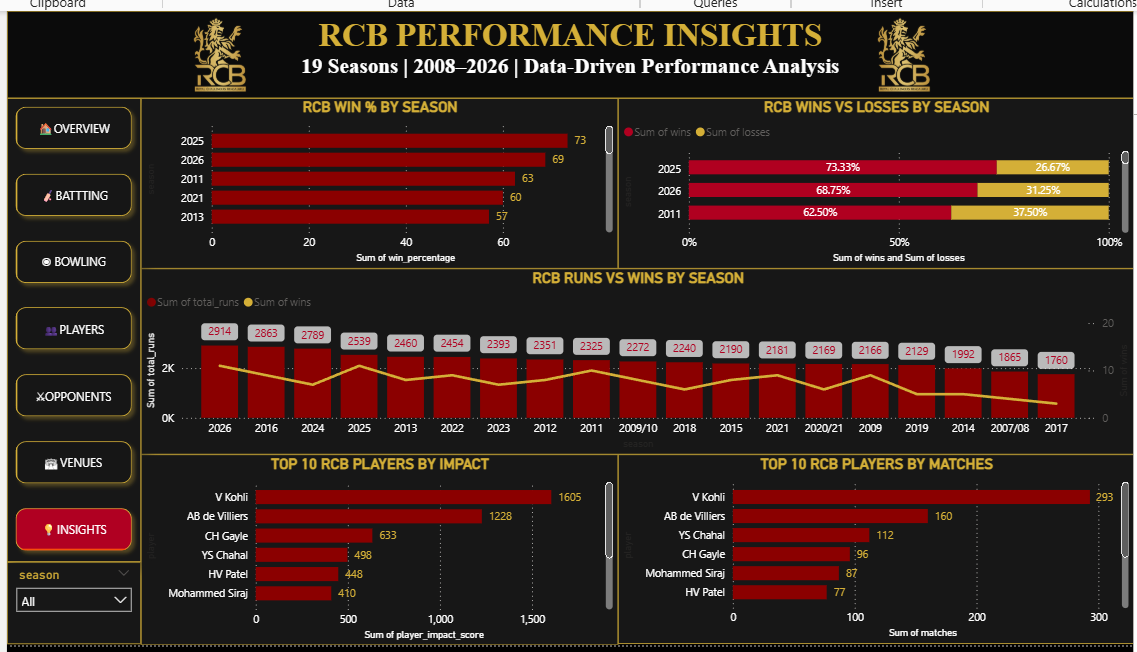

Layout of this report page (visuals, bound fields, positions):
{"tool":"powerbi","page":{"name":"💡INSIGHTS","canvas":[1280,720],"ordinal":6},"visuals":[{"type":"textbox","box":[0,0,1280.5,99],"z":0},{"type":"slicer","fields":{"Values":["rcb_season_summary.season"]},"box":[0,626.2,152.1,93],"z":1000},{"type":"barChart","title":"RCB WIN % BY SEASON","fields":{"Category":["rcb_season_summary.season"],"Y":["Sum(rcb_season_summary.win_percentage)"]},"box":[152.1,99,542,193.5],"z":2000},{"type":"lineStackedColumnComboChart","title":"RCB RUNS VS WINS BY SEASON","fields":{"Category":["rcb_season_summary.season"],"Y":["Sum(rcb_season_summary.total_runs)"],"Y2":["Sum(rcb_season_summary.wins)"]},"box":[152.1,292.4,1128.4,211.2],"z":3000},{"type":"hundredPercentStackedBarChart","title":"RCB WINS VS LOSSES BY SEASON","fields":{"Category":["rcb_season_summary.season"],"Y":["Sum(rcb_season_summary.wins)","Sum(rcb_season_summary.losses)"]},"box":[694.2,99,586.4,193.5],"z":4000},{"type":"clusteredBarChart","title":"TOP 10 RCB PLAYERS BY IMPACT","fields":{"Category":["rcb_player_season_impact.player"],"Y":["Sum(rcb_player_season_impact.player_impact_score)"]},"box":[152.1,503.6,542,217.1],"z":5000},{"type":"clusteredBarChart","title":"TOP 10 RCB PLAYERS BY MATCHES","fields":{"Category":["rcb_player_season_impact.player"],"Y":["Sum(rcb_player_season_impact.matches)"]},"box":[694.2,503.6,586.4,215.6],"z":6000},{"type":"pageNavigator","box":[0,99,152.1,527.3],"z":7000},{"type":"image","box":[152.1,0,178.7,99],"z":8000},{"type":"image","box":[924.6,0,189.1,99],"z":9000}]}

Visuals, with their boxes on the page's 1280x720 design canvas (x1, y1, x2, y2). These are canvas units, not pixel positions in the 1137x652 screenshot, which may show the page scaled, cropped or inside an application window:
textbox: (0,0,1280,99)
slicer - rcb_season_summary.season: (0,626,152,719)
"RCB WIN % BY SEASON" barChart: (152,99,694,292)
"RCB RUNS VS WINS BY SEASON" lineStackedColumnComboChart: (152,292,1280,504)
"RCB WINS VS LOSSES BY SEASON" hundredPercentStackedBarChart: (694,99,1281,292)
"TOP 10 RCB PLAYERS BY IMPACT" clusteredBarChart: (152,504,694,721)
"TOP 10 RCB PLAYERS BY MATCHES" clusteredBarChart: (694,504,1281,719)
pageNavigator: (0,99,152,626)
image: (152,0,331,99)
image: (925,0,1114,99)
